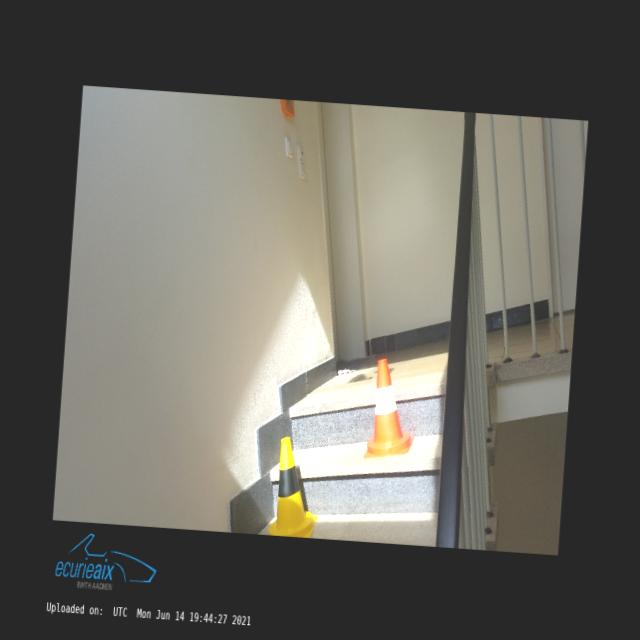orange_cone: (363, 358, 419, 460)
yellow_cone: (268, 436, 322, 537)
